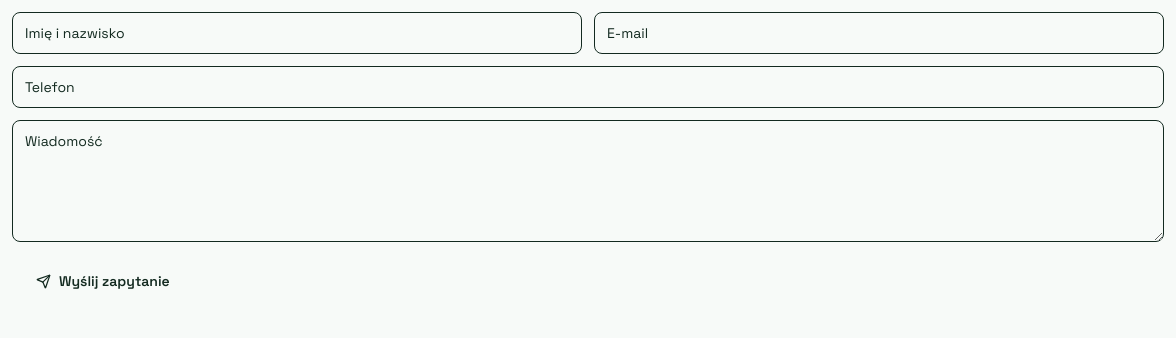
Scenario: błędy › po błędzie formularz zostaje wypełniony, żeby dało się poprawić
In the field labelled "Imię i nazwisko": [297, 33] box 12,12 -> 582,54, type "Anna Kowalska"
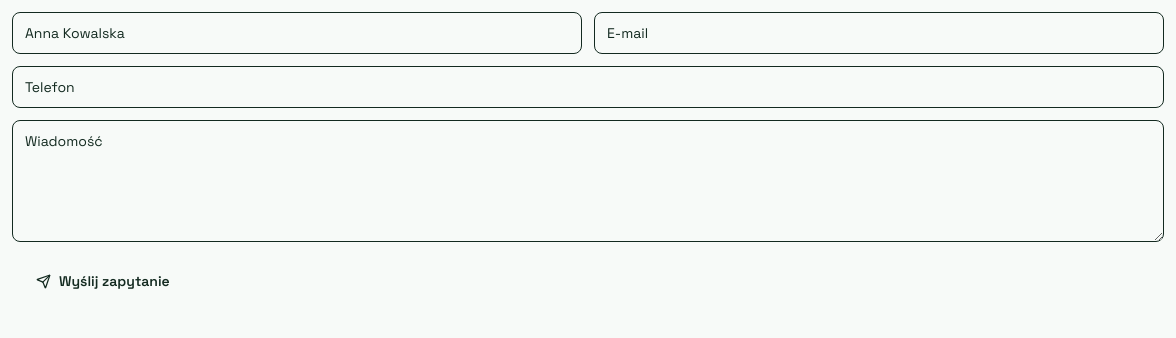
In the field labelled "E-mail": [879, 33] box 594,12 -> 1164,54, type "anna@example.com"
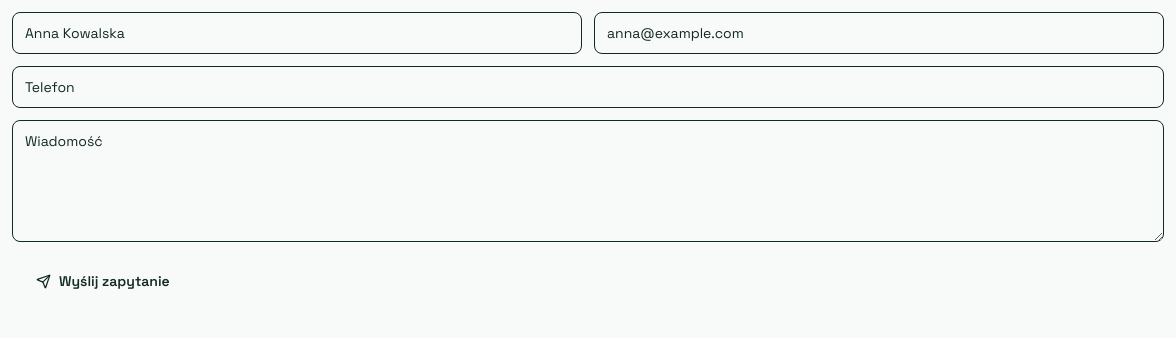
In the text box labelled "Wiadomość": [588, 181] box 12,120 -> 1164,242, type "Czy jest wolny pokój w sierpniu?"
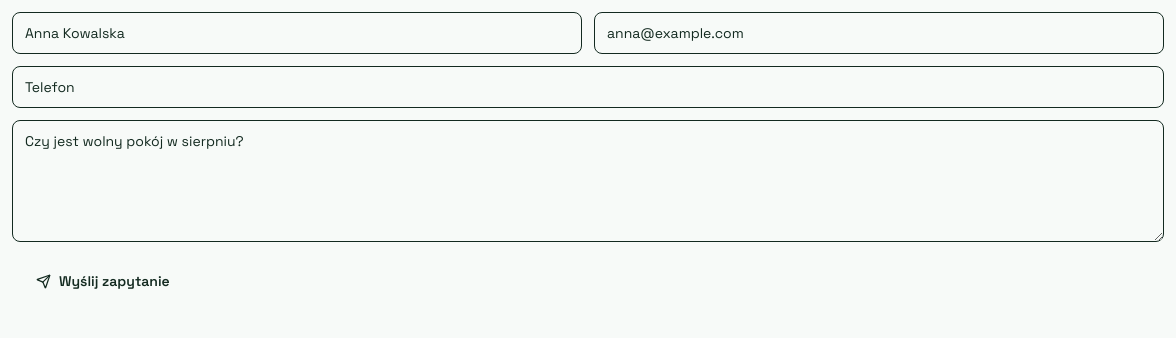
Click the button "Wyślij zapytanie": [103, 281] box 12,261 -> 194,301
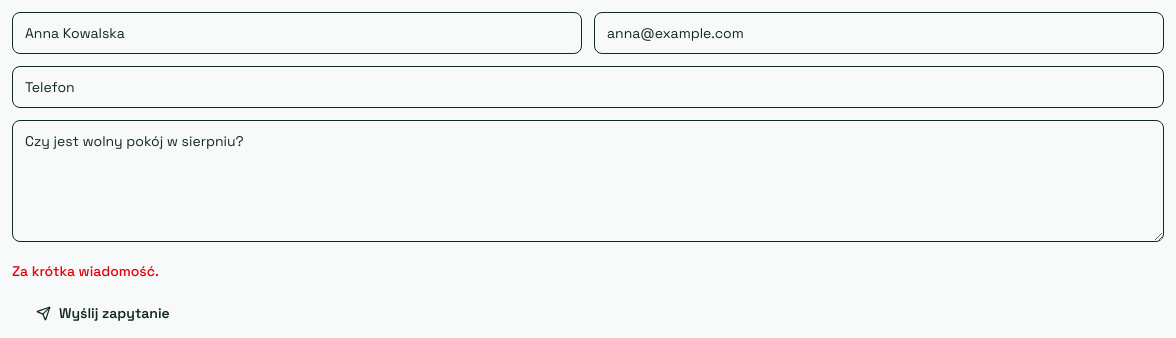
Check: the text "Za krótka wiadomość." is shown, box 12,262 -> 159,280
